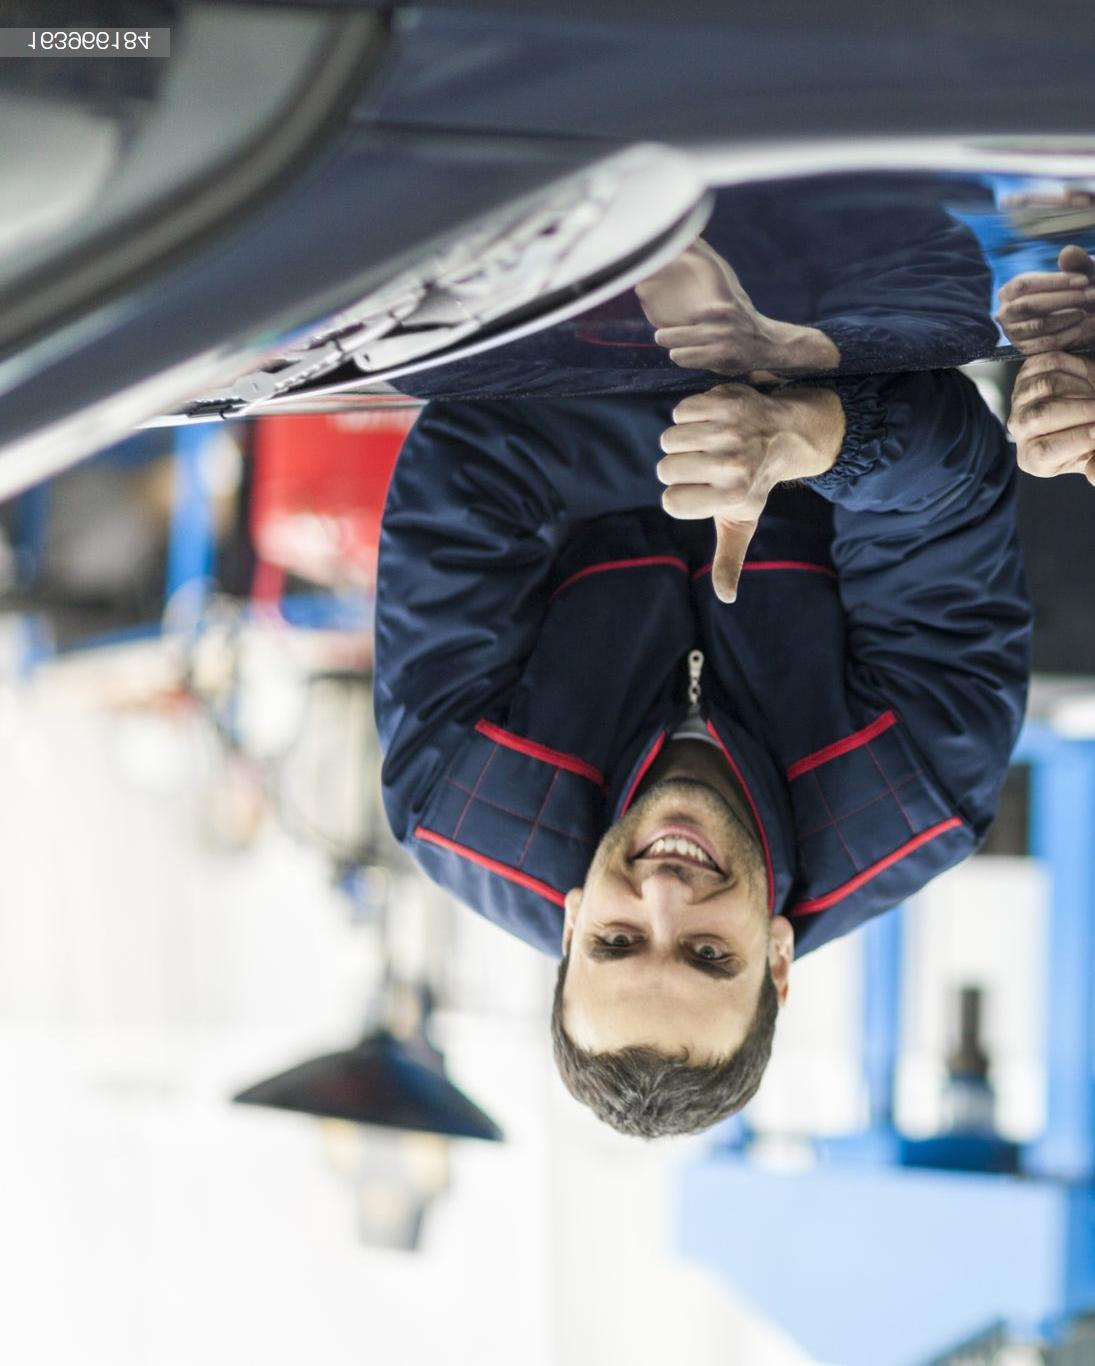thumbsdown: (655, 392, 760, 605)
